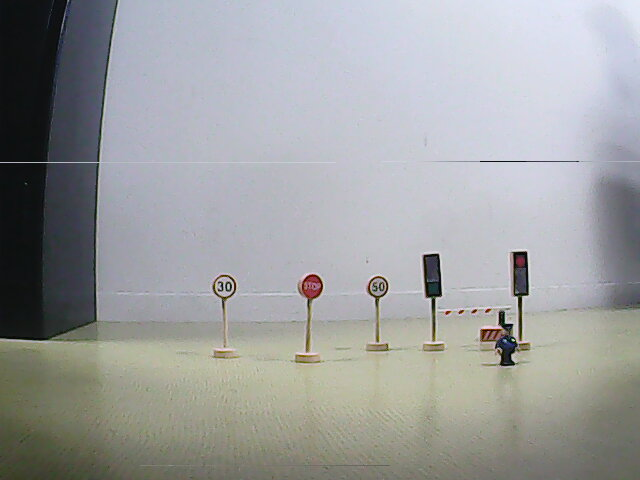barrier: (438, 303, 518, 341)
green_traffic_sign: (421, 251, 443, 300)
person: (492, 321, 525, 370)
red_traffic_sign: (509, 251, 528, 297)
sign_30: (213, 274, 237, 299)
sign_50: (365, 275, 391, 300)
stop_sign: (299, 271, 324, 301)
